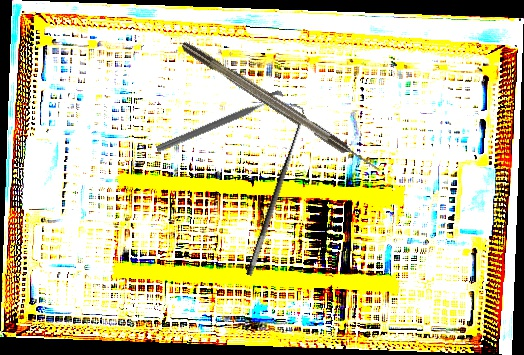Fixation Ring: (154, 89, 289, 163)
Hook Surgical: (179, 38, 385, 178), (232, 103, 312, 277)
